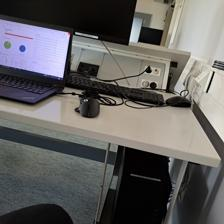mouse: (74, 96, 101, 118)
